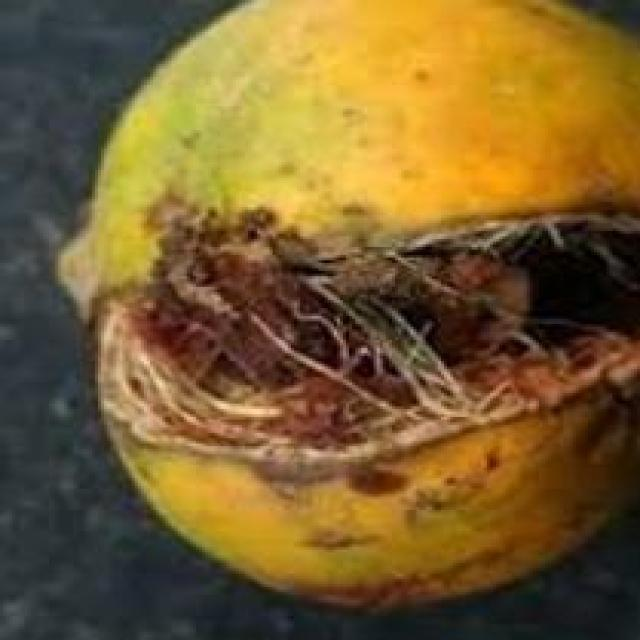damaged: (52, 3, 637, 619)
